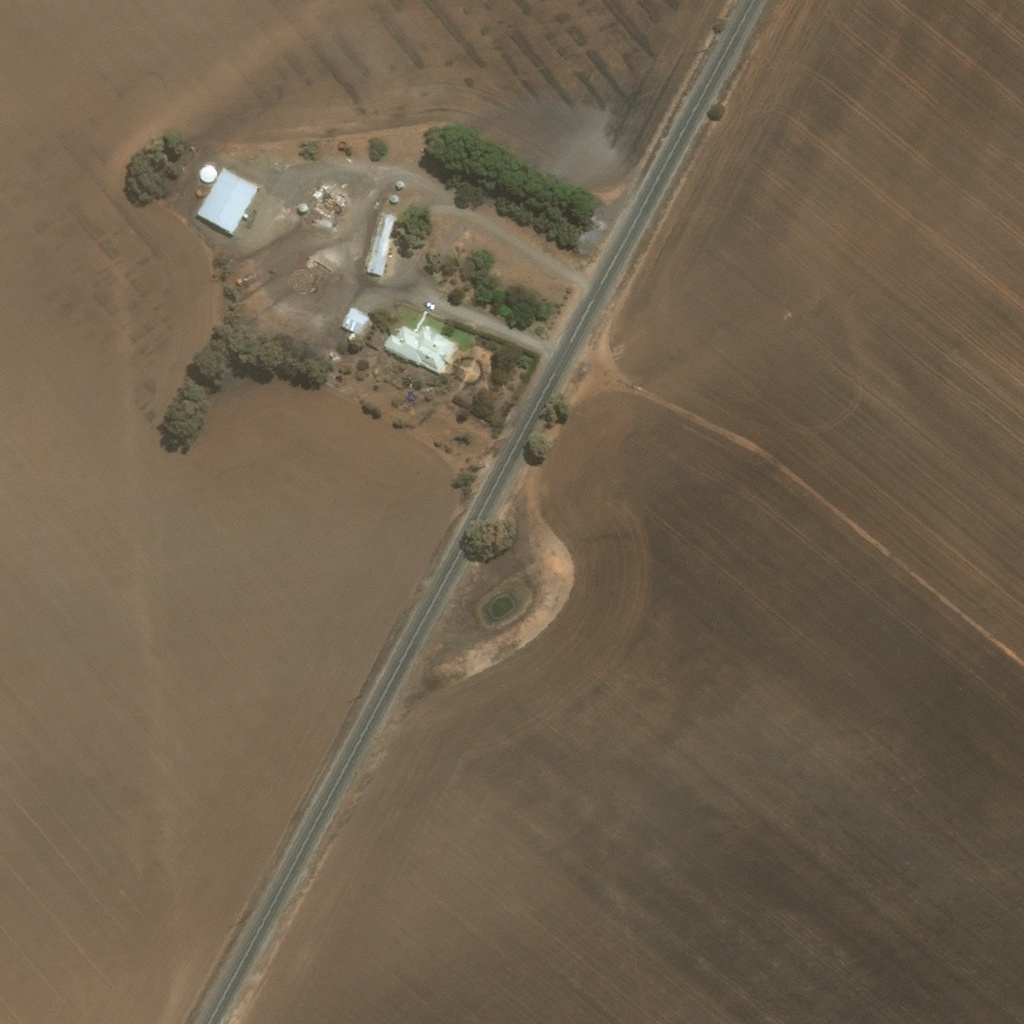0 no-damage: (196, 166, 259, 234), (383, 324, 460, 374), (340, 307, 370, 336), (198, 165, 218, 183), (298, 202, 308, 212), (395, 180, 405, 189), (390, 194, 399, 203)
1 minor-damage: (365, 212, 395, 277)
3 destroyed: (308, 184, 346, 230)
4 un-classified: (506, 692, 517, 704)
